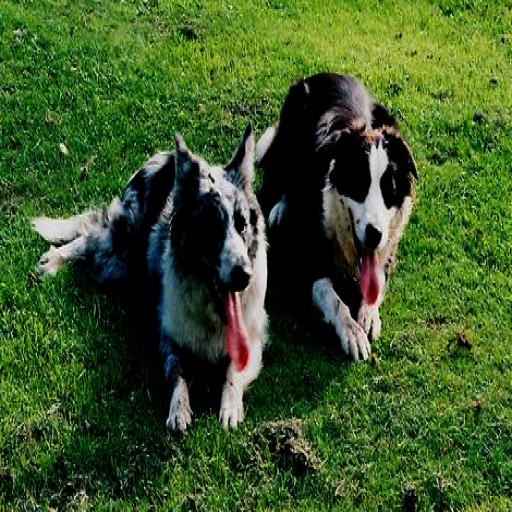dog_face: (168, 132, 263, 336), (331, 124, 408, 291)
